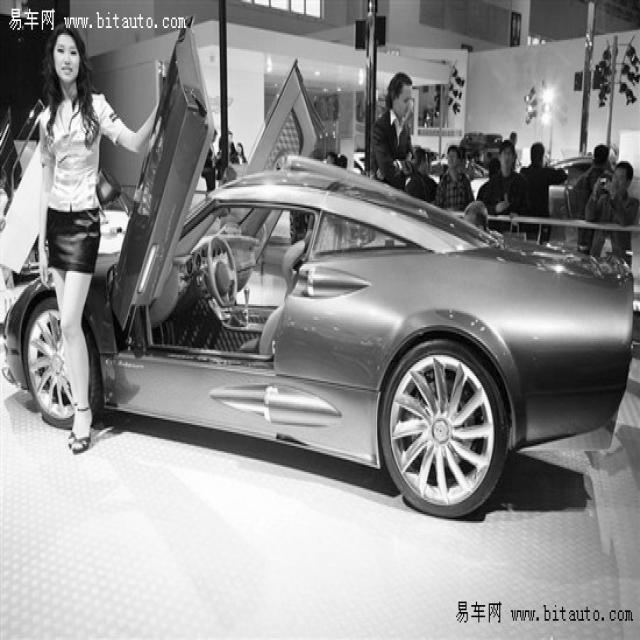car: (1, 14, 634, 518)
